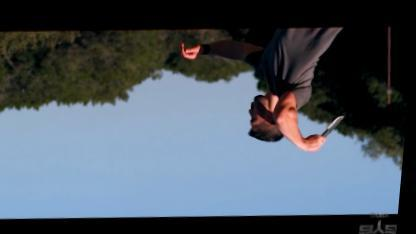knife: (304, 110, 350, 154)
